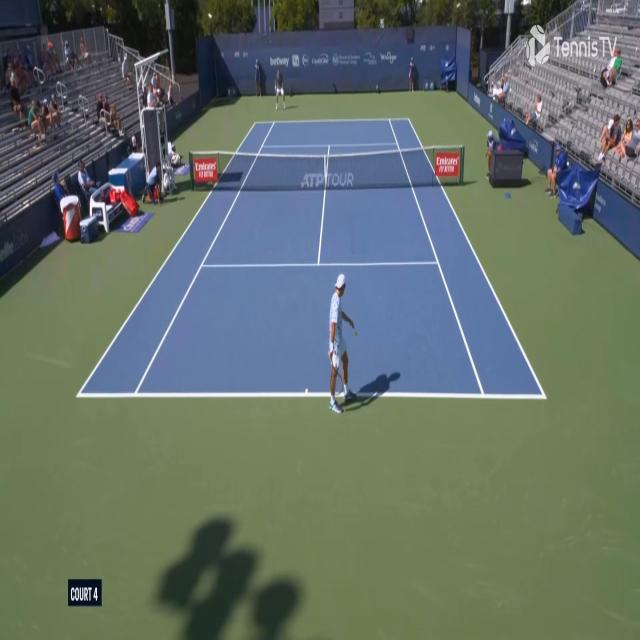tennis-player: (327, 270, 359, 416), (274, 68, 287, 110)
